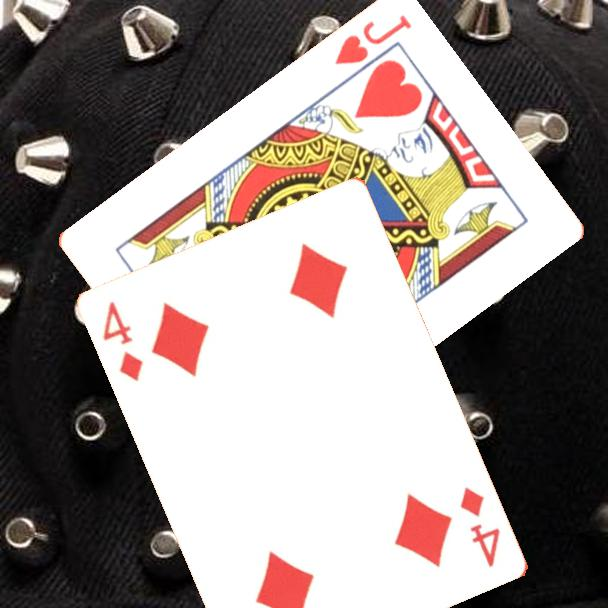d04: (457, 484, 504, 571), (100, 298, 147, 385)
h11: (331, 10, 415, 67)
